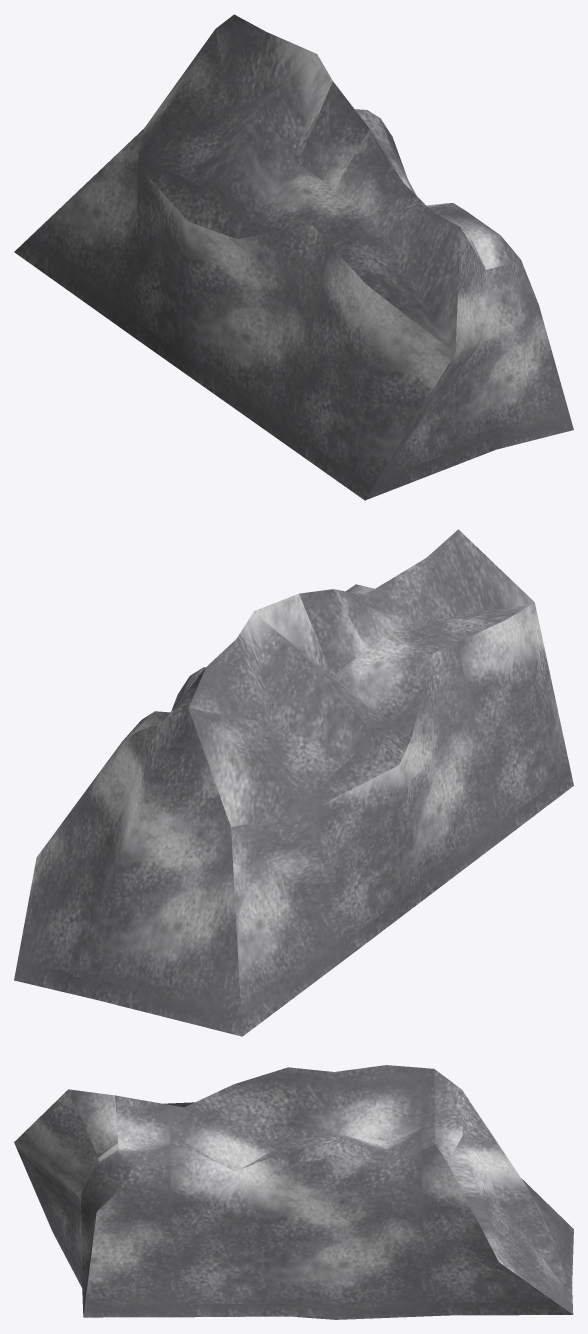
The model's file is MountainR4.FBX.
3 views of the same model, one above another, from view 1: azimuth 30°, elevation 25°; view 2: azimuth 150°, elevation 25°; view 3: azimuth 270°, elevation 25° (orthographic). The views are drawn at different scales.
Parts seen in each view (by area): view 1: MountainR4; view 2: MountainR4; view 3: MountainR4.
Part boxes in pixels (x1,y1,x2,y2): MountainR4: (14,14,573,500); MountainR4: (14,529,573,1036); MountainR4: (14,1065,573,1319).
Size of the model in its own units: 135 by 140 by 335.
Materials: 1 (1 with a texture image).
